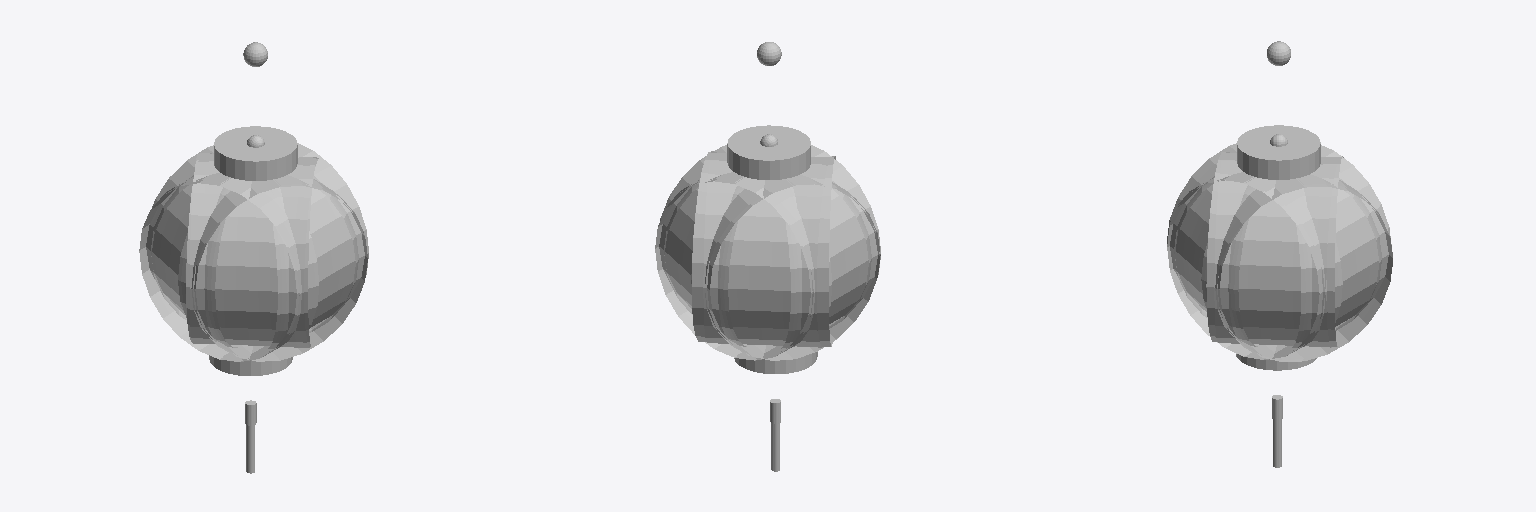
File: lantern.005.obj
The picture shows the model from 3 angles: view 1: azimuth 30°, elevation 25°; view 2: azimuth 150°, elevation 25°; view 3: azimuth 270°, elevation 25°; orthographic projection.
Visible parts, largest first — view 1: lantern.005_3d-model.005; view 2: lantern.005_3d-model.005; view 3: lantern.005_3d-model.005.
Part boxes in pixels (x1,y1,x2,y2): lantern.005_3d-model.005: (139, 42, 368, 473); lantern.005_3d-model.005: (655, 42, 880, 471); lantern.005_3d-model.005: (1167, 41, 1392, 467).
Size of the model in its own units: 0.2315 by 0.5187 by 0.2502.